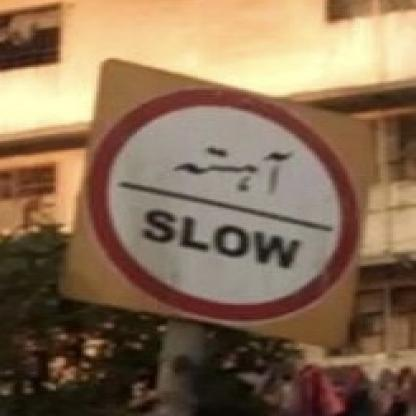Slow: (54, 57, 377, 347)
